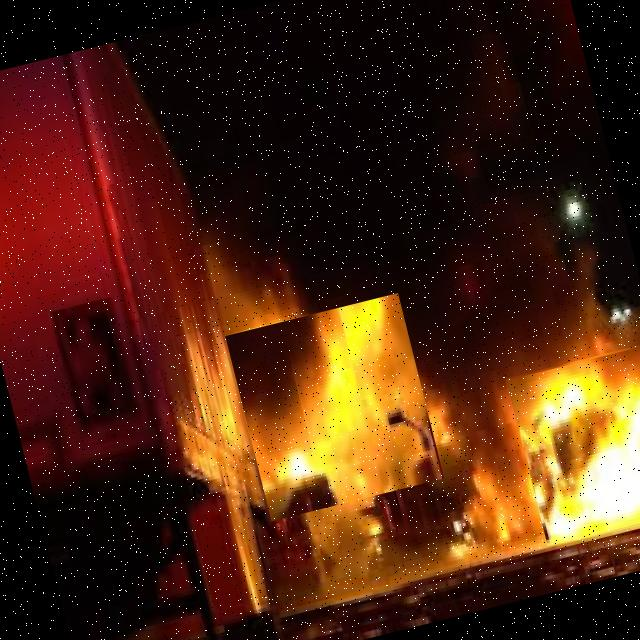fire: (226, 292, 444, 521), (506, 344, 640, 547)
